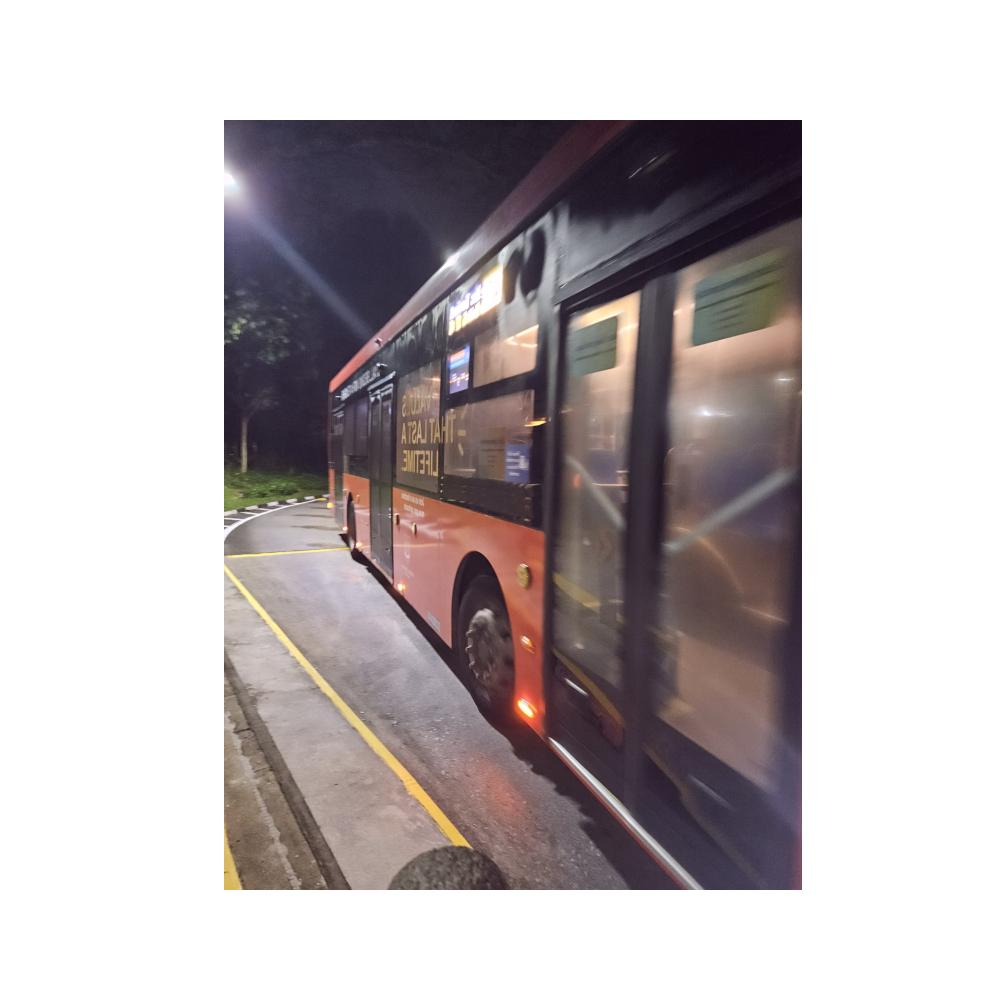bus: (325, 117, 796, 889)
